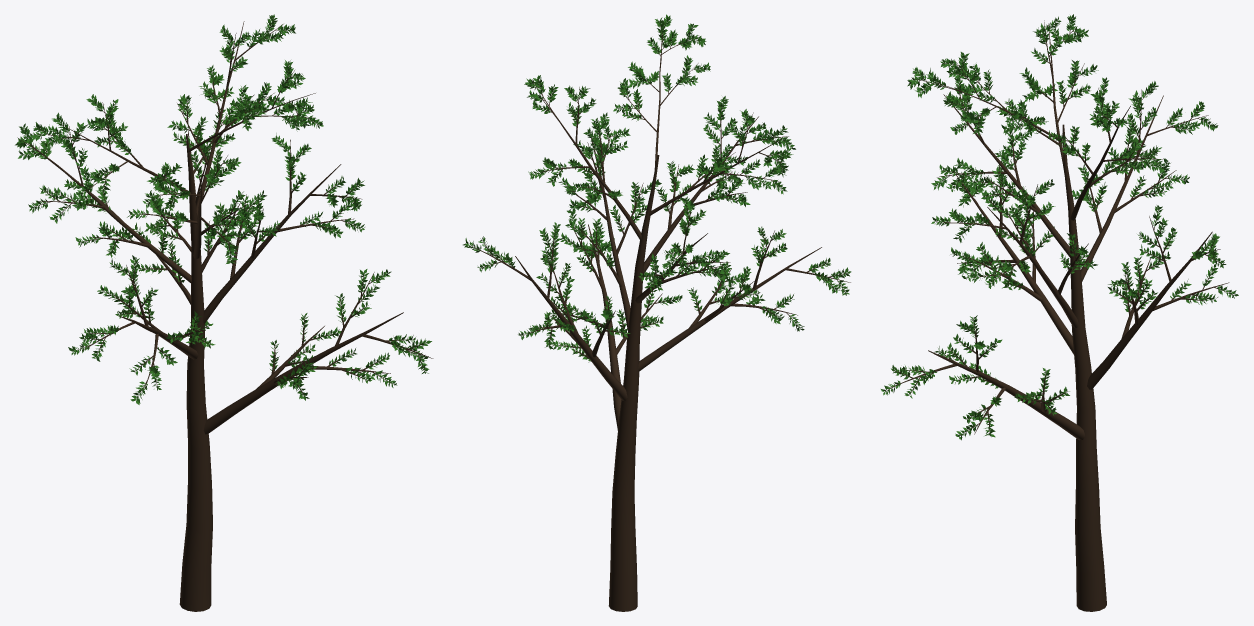
The model's file is tree_tall.obj.
The picture shows the model from 3 angles, left to right: view 1: azimuth 30°, elevation 25°; view 2: azimuth 150°, elevation 25°; view 3: azimuth 270°, elevation 25°; orthographic projection. The views are drawn at different scales.
Bounding box in the file's own units: 7.58 × 13.21 × 7.59.
